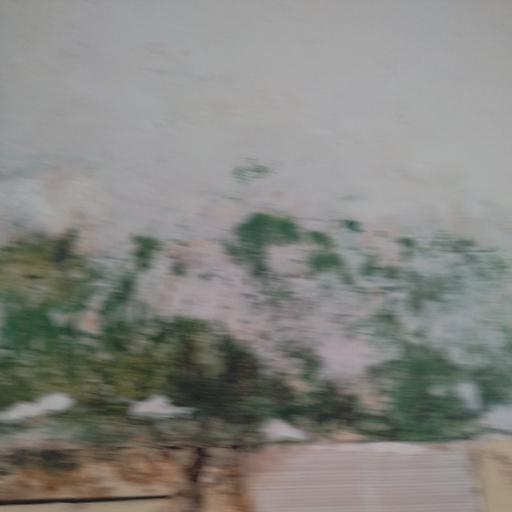algae: (0, 179, 512, 469)
